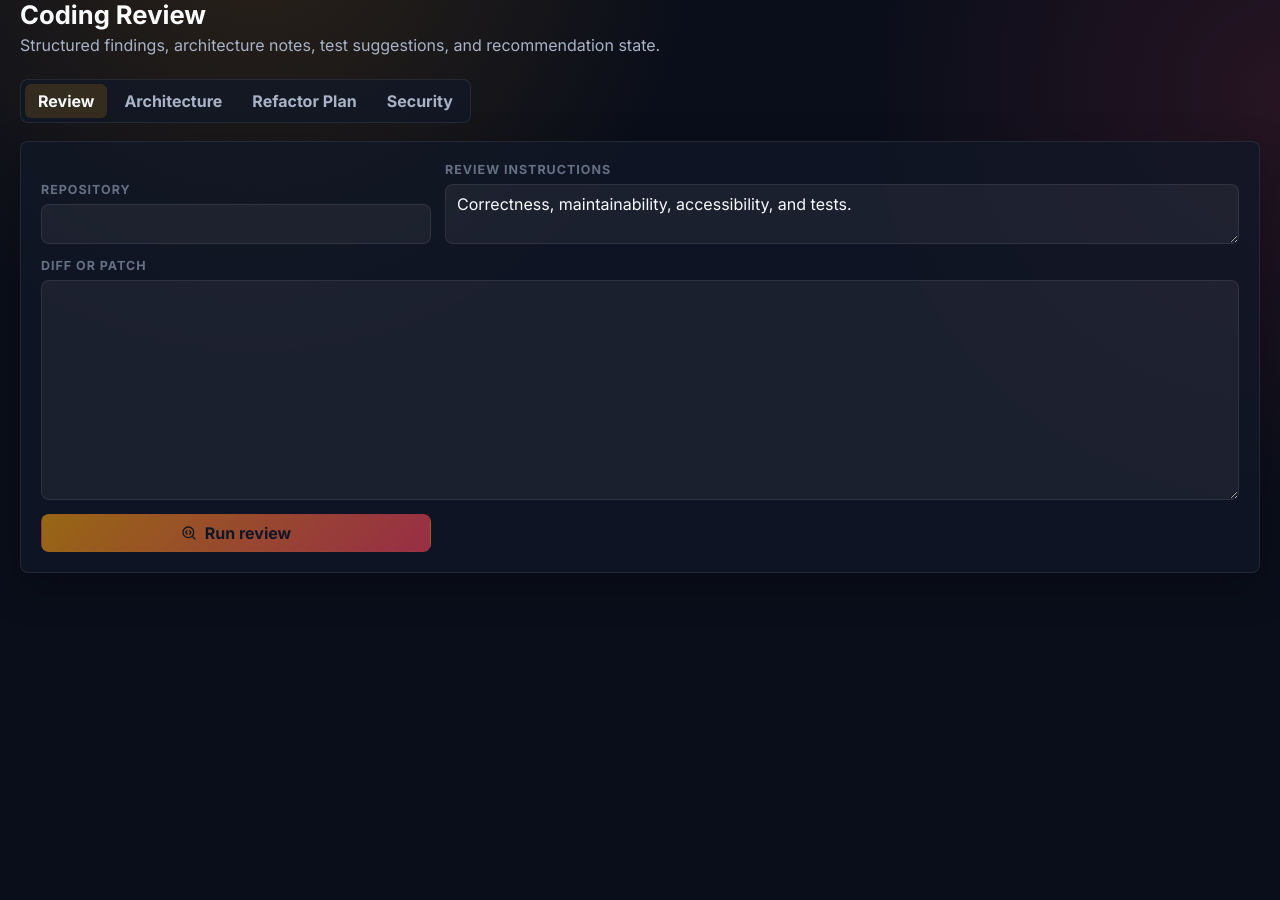
PR3 tool pages › submits the Security coding variant
Click the button "Security" at (420, 101), box [374,84,466,118]
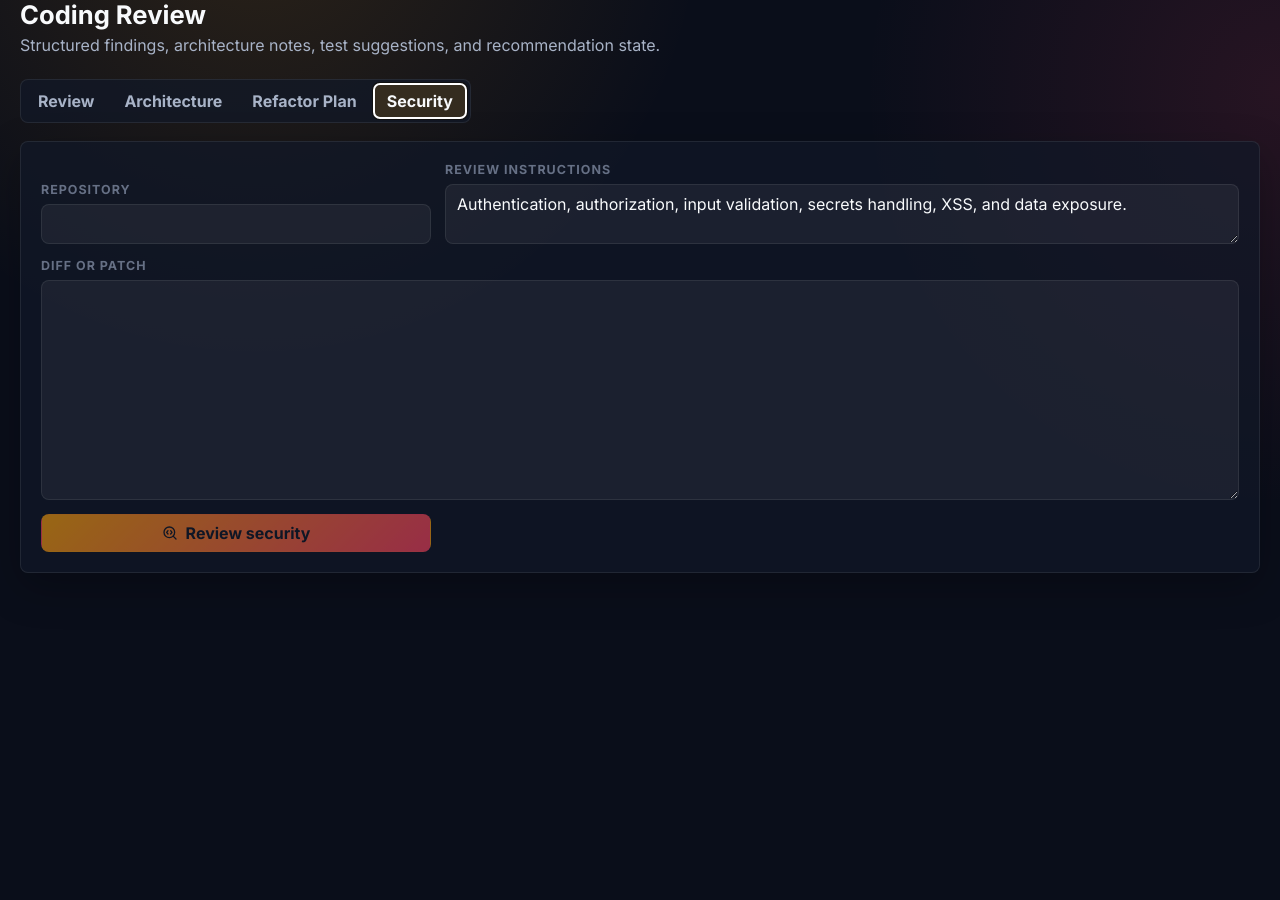
Type "diff --git a/file.ts b/file.ts" into the text box labelled "Diff or patch" at (640, 390), box [41,280,1239,500]
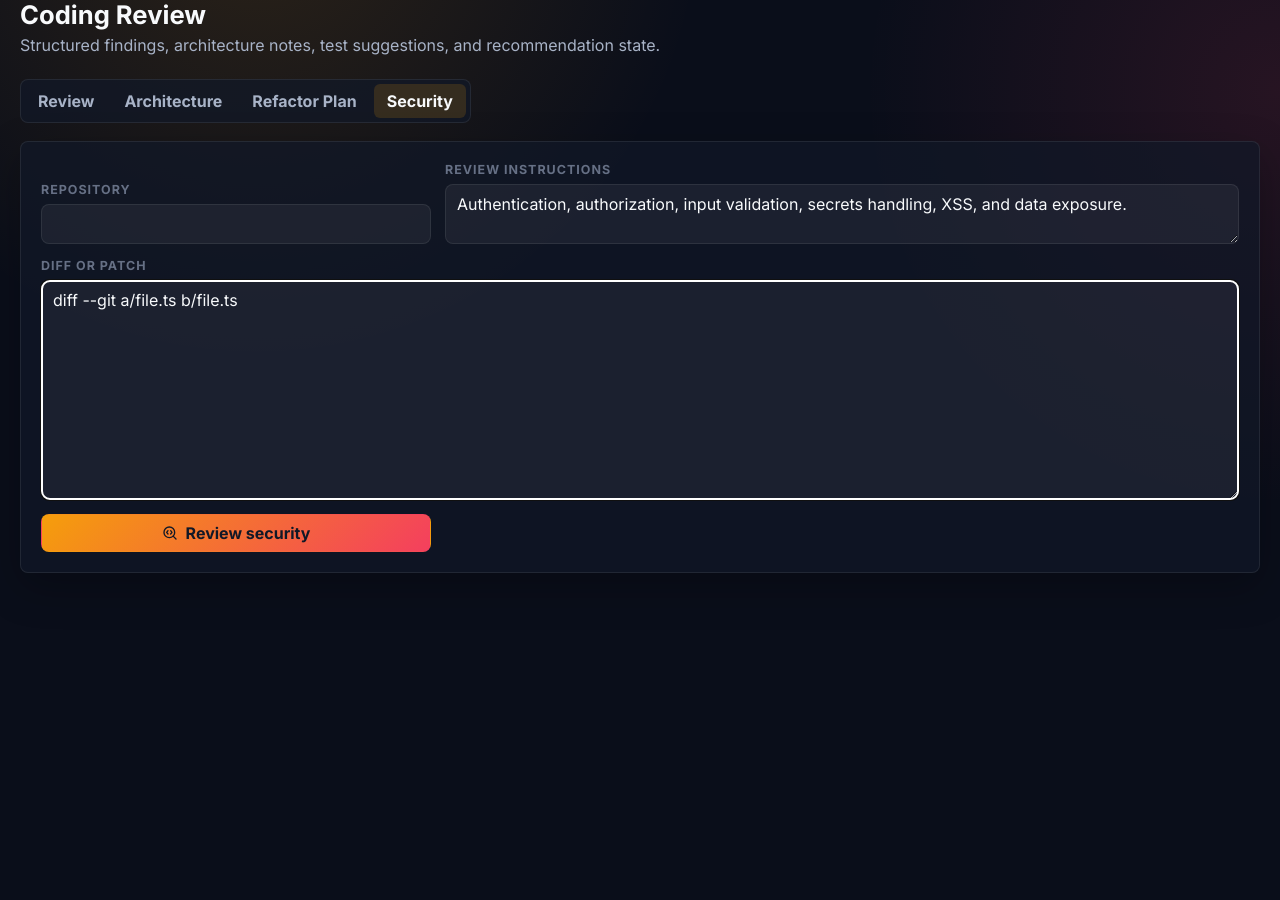
Click the button "Review security" at (236, 533), box [41,514,431,552]
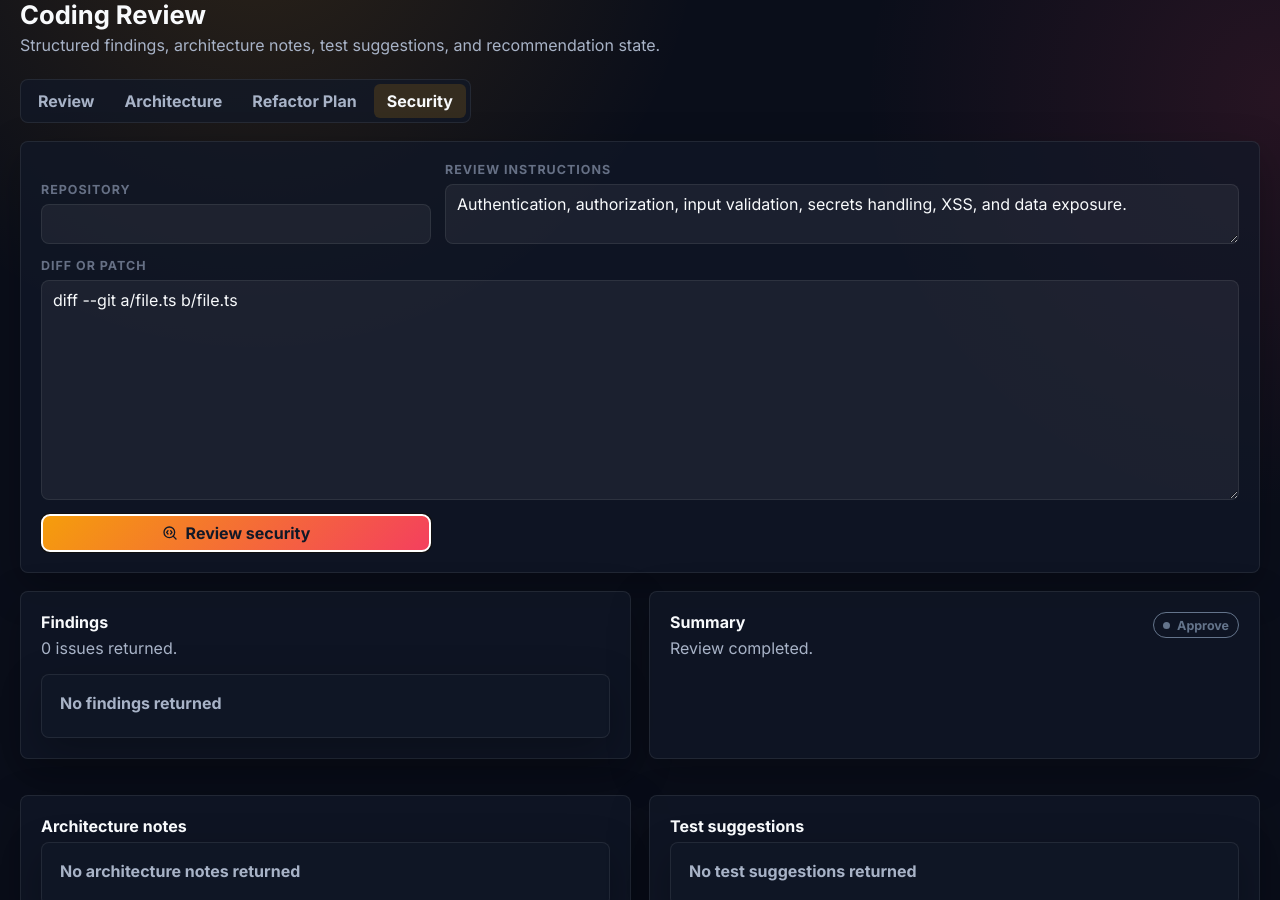
Check: the text "approve" is shown, box [1153,612,1239,638]
